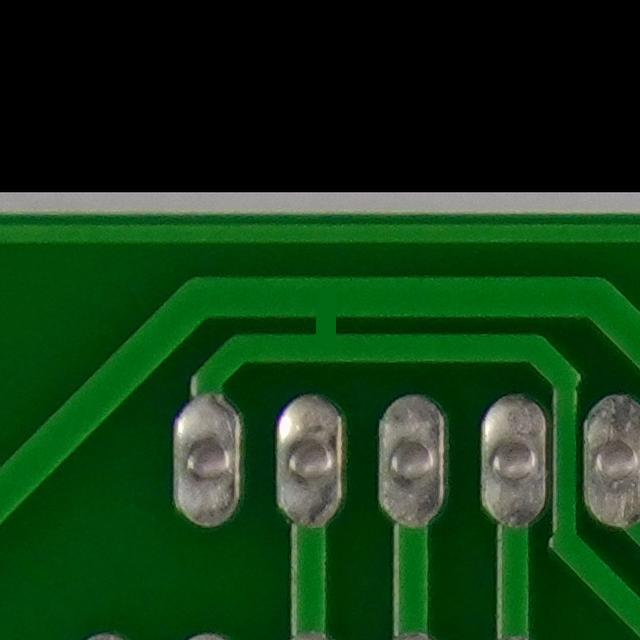short: (278, 259, 363, 380)
